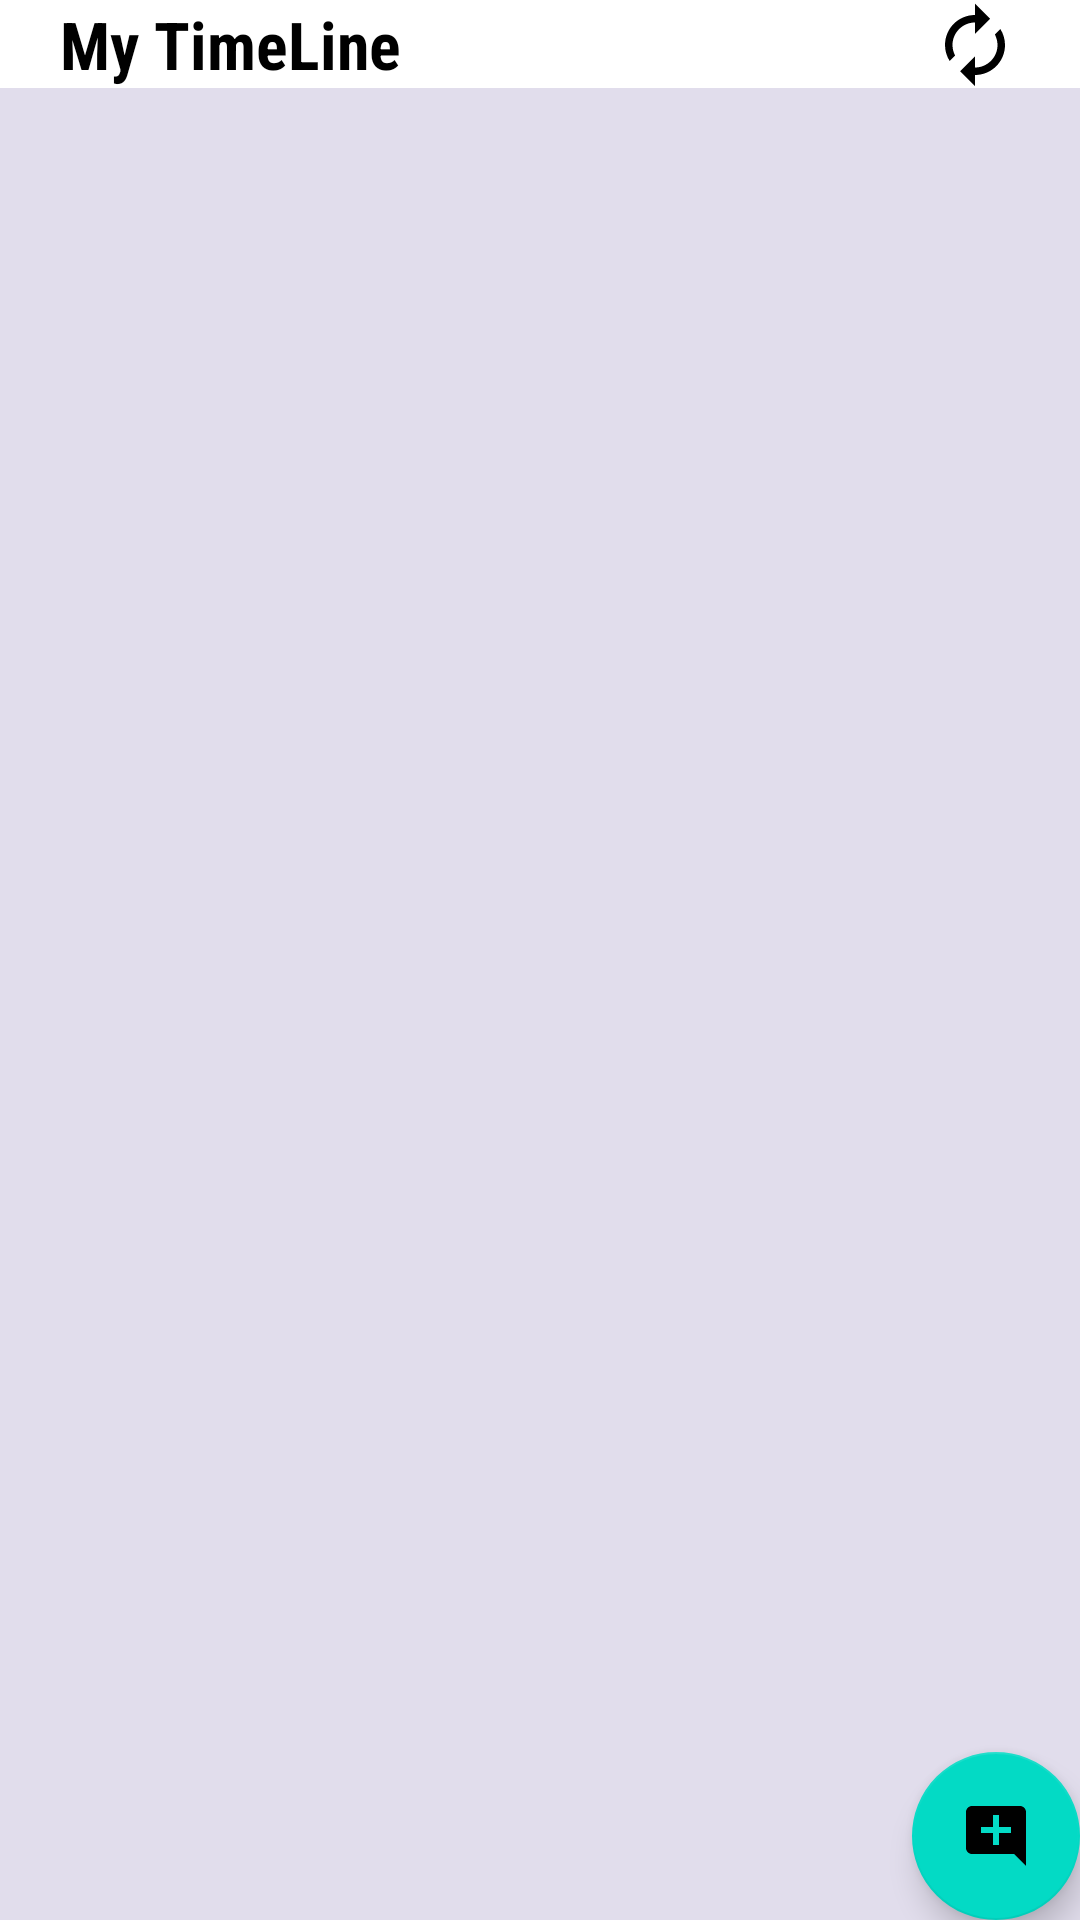

Icon click points for this 1080w x 1920h phone screenshot, format (x,y):
add comment: (996,1836)
autorenew: (975,45)
